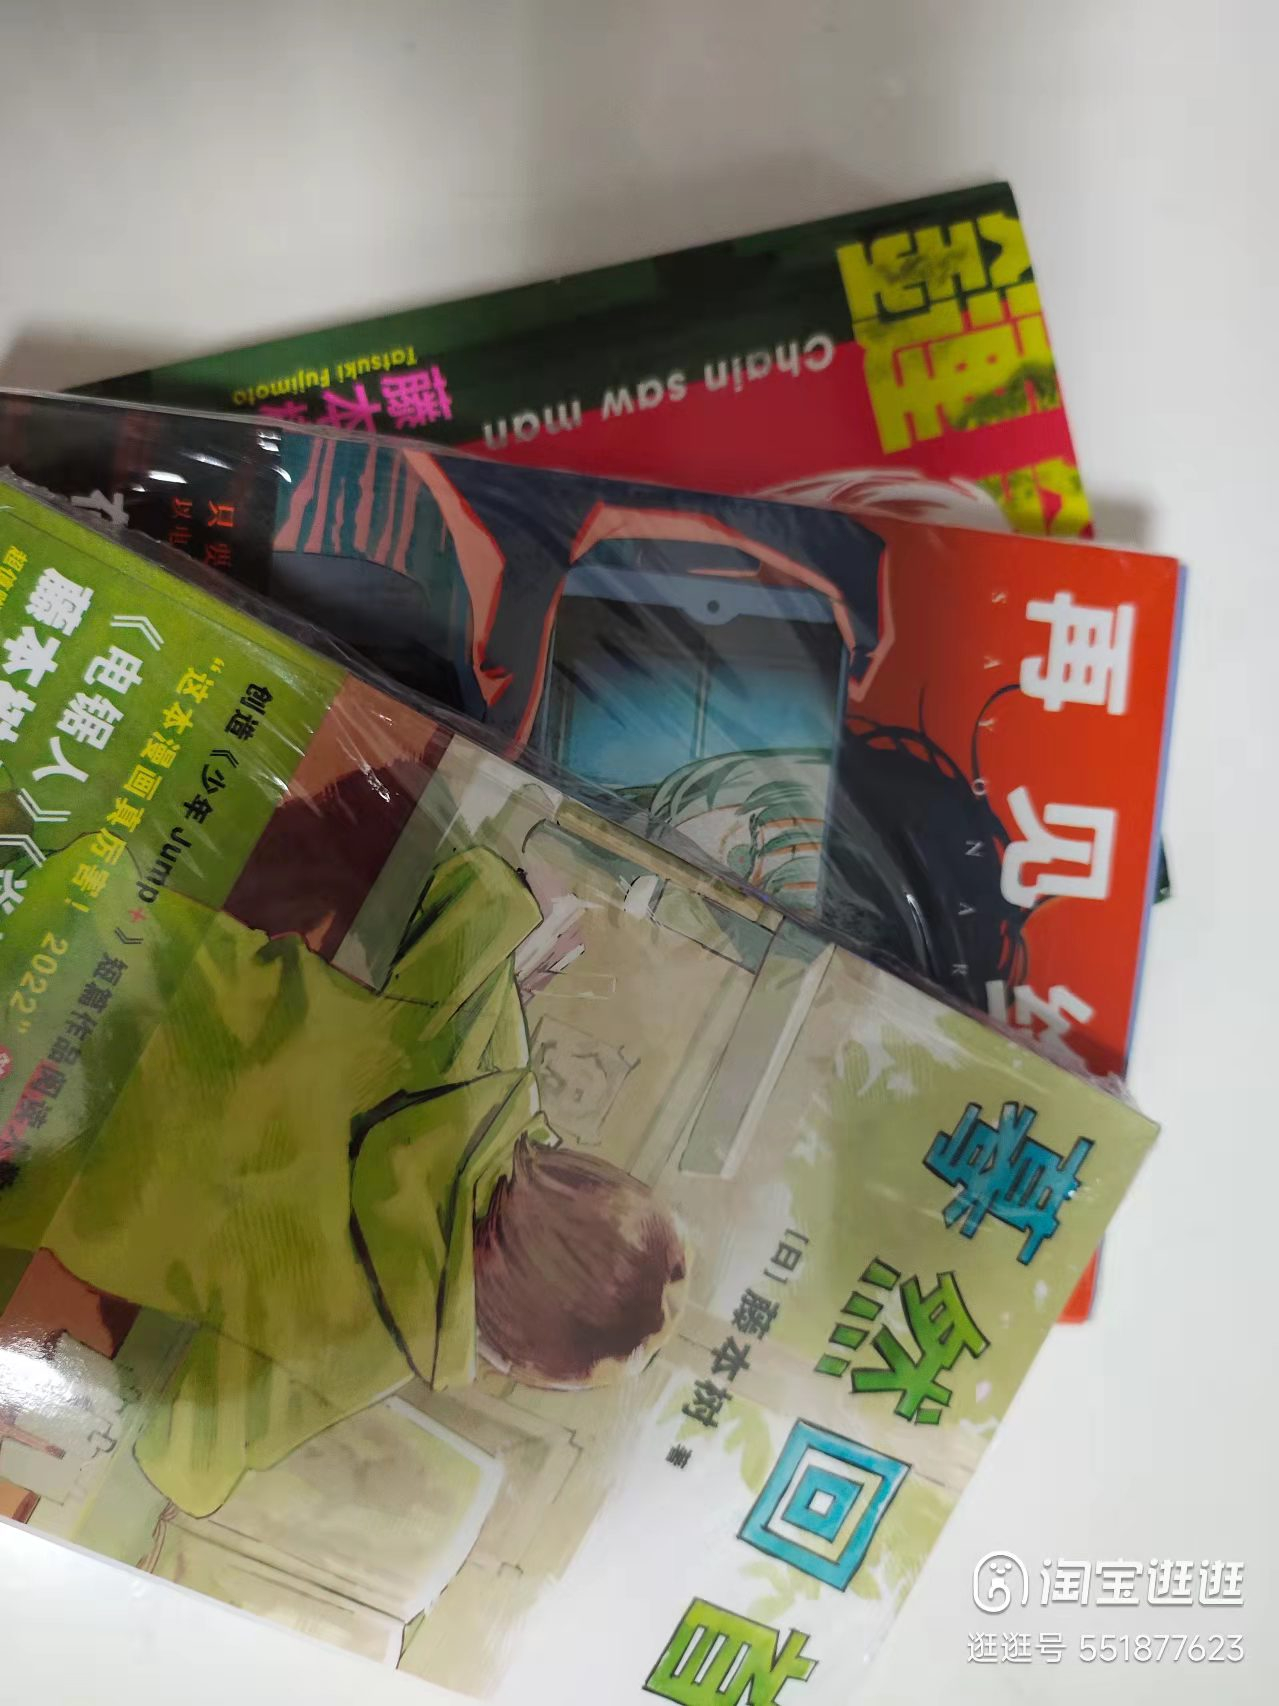book: (0, 454, 1154, 1699), (7, 345, 1173, 1338), (7, 141, 1154, 971)
